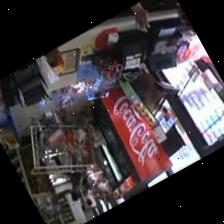person: (56, 171, 82, 200), (80, 173, 92, 205)
